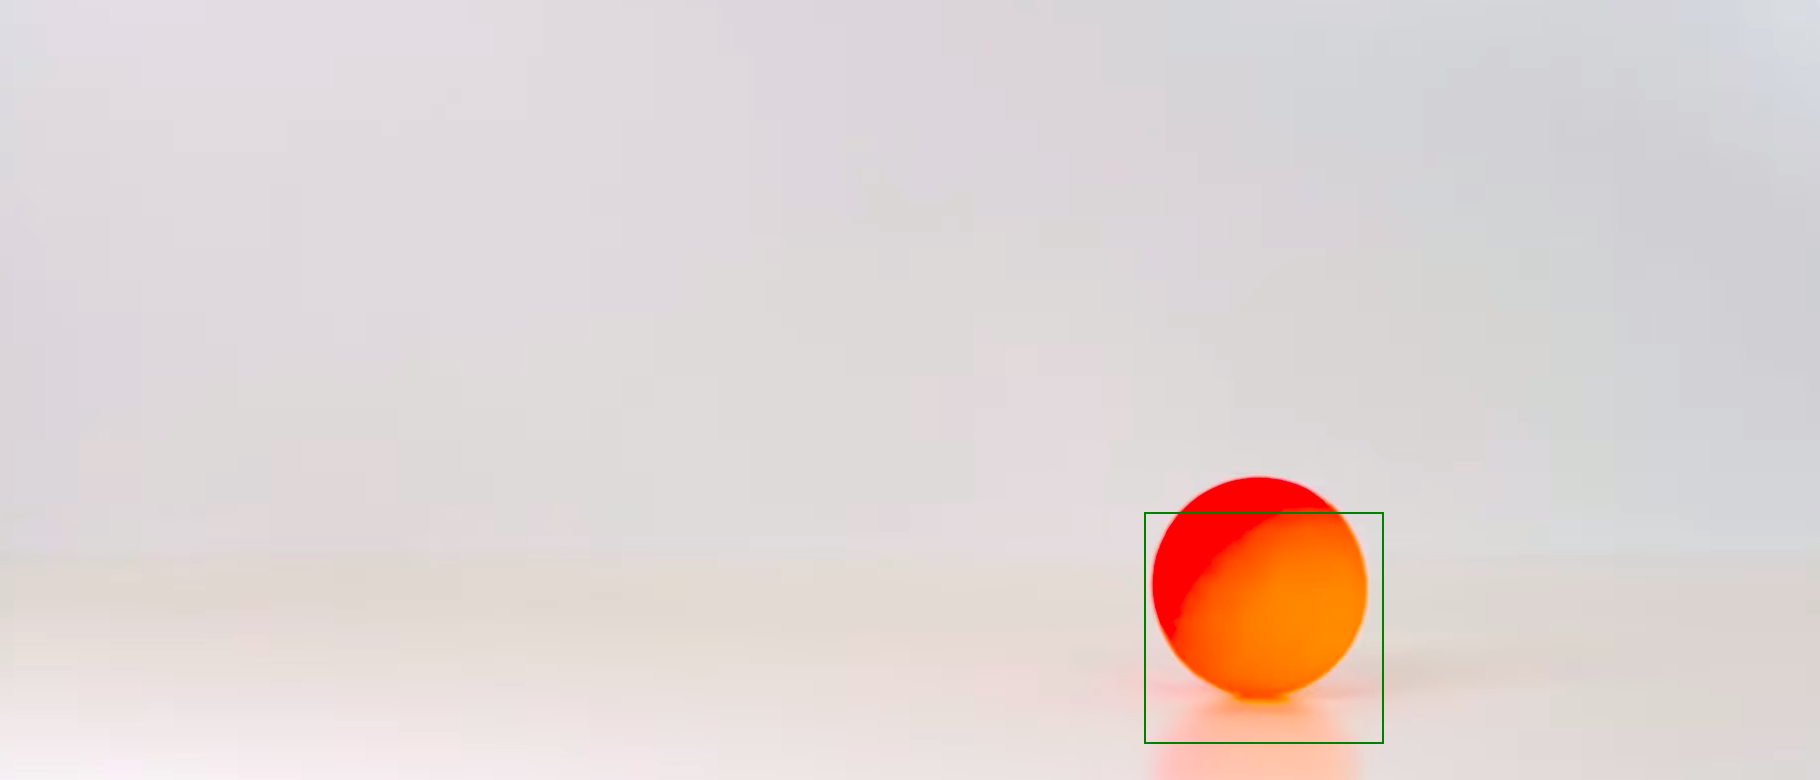Circle: (1151, 477, 1371, 702)
